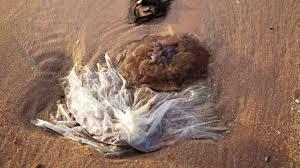Plastic: (49, 61, 233, 153)
